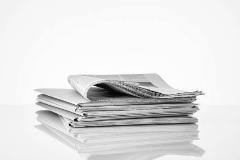paper: (34, 87, 200, 127), (68, 72, 204, 101), (59, 115, 199, 134)
